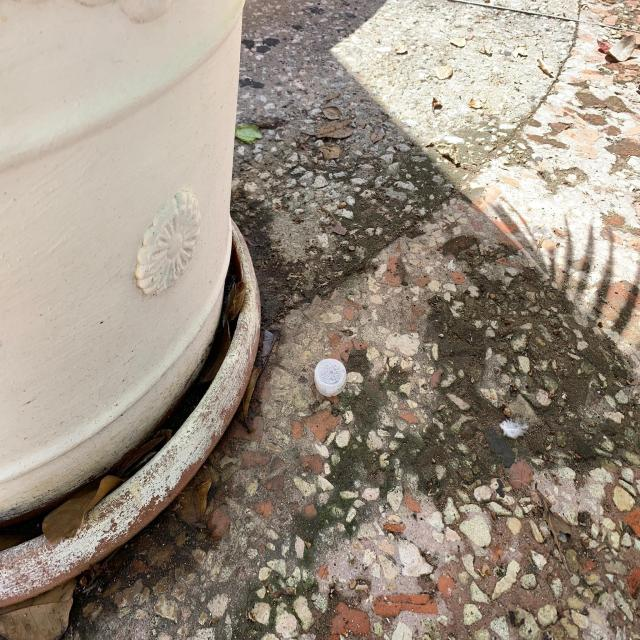litter: (314, 358, 347, 397)
